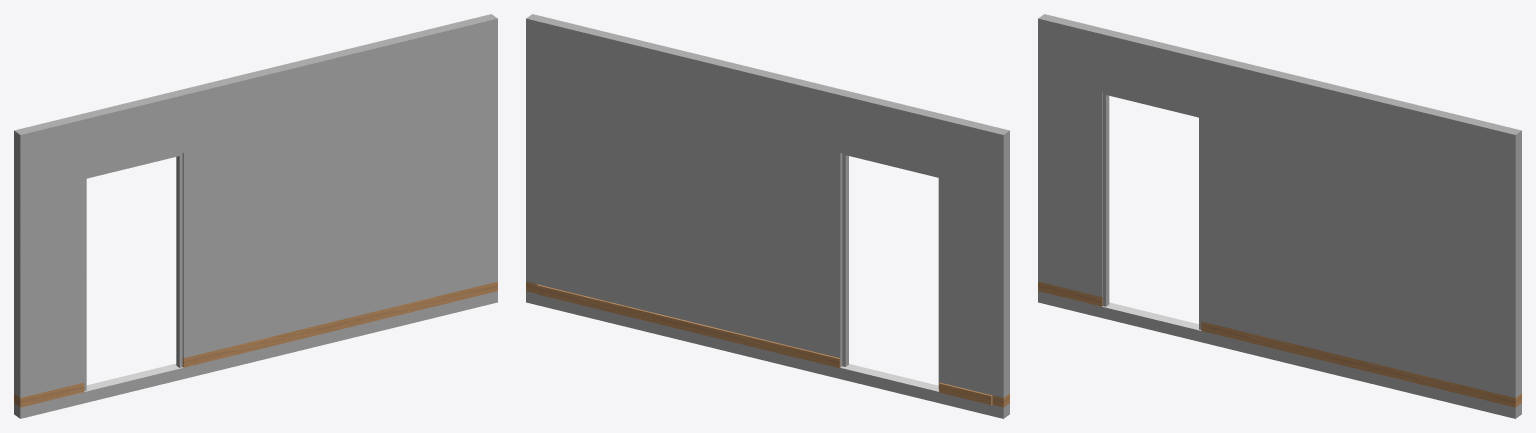
File: Wall_B.fbx
The picture shows the model from 3 angles, left to right: view 1: azimuth 30°, elevation 25°; view 2: azimuth 150°, elevation 25°; view 3: azimuth 330°, elevation 25°; orthographic projection.
Parts seen in each view (by area): view 1: Wall_B; view 2: Wall_B; view 3: Wall_B.
Part boxes in pixels (x1,y1,x2,y2): Wall_B: (14, 14, 497, 418); Wall_B: (526, 14, 1009, 418); Wall_B: (1038, 14, 1521, 418).
Bounding box in the file's own units: 880 × 500 × 22.
